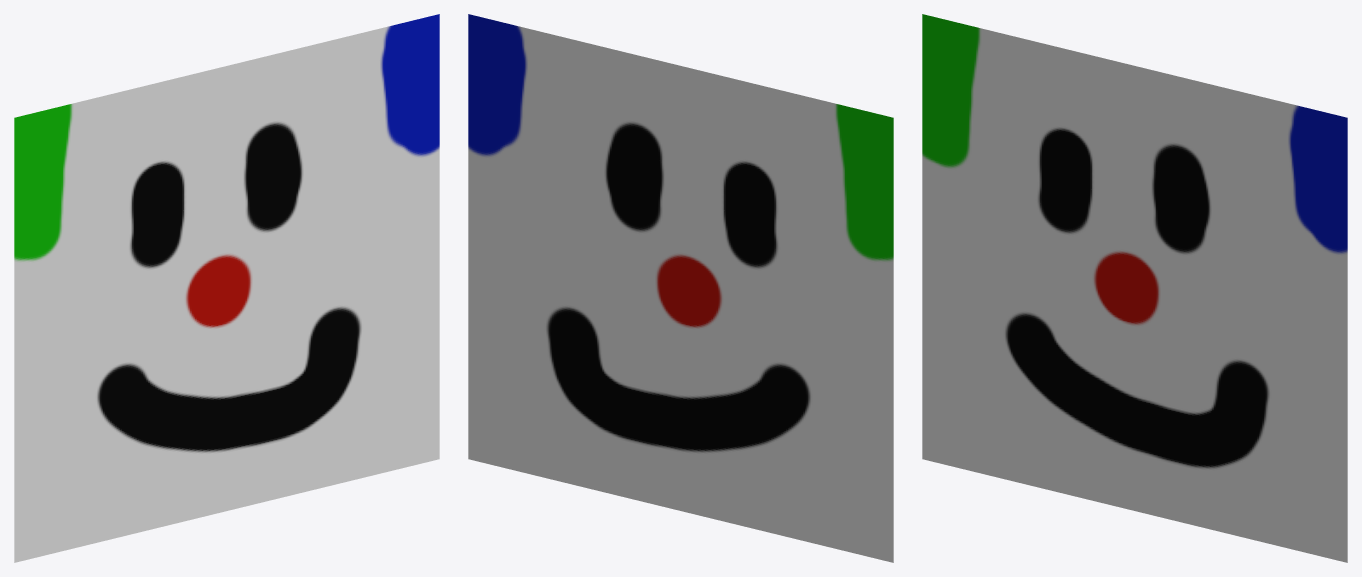
3 renders of one model, left to right at view 1: azimuth 30°, elevation 25°; view 2: azimuth 150°, elevation 25°; view 3: azimuth 330°, elevation 25°, orthographic.
Parts seen in each view (by area): view 1: Plane; view 2: Plane; view 3: Plane.
Boxes of the visible parts, x1,y1,x2,y2 form: Plane: (14,14,439,562); Plane: (468,14,893,562); Plane: (922,14,1347,562).
Size of the model in its own units: 2 by 2 by 0.
Materials: 1 (1 with a texture image).
